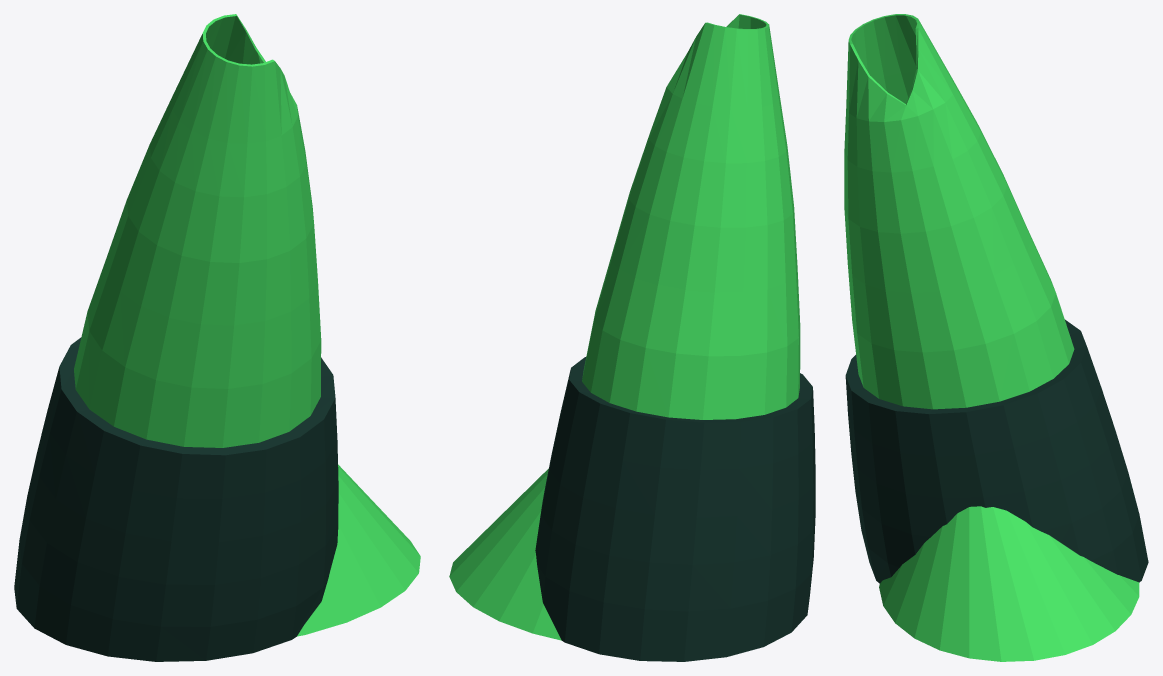
The model's file is Peridot pie derecho.obj.
The picture shows the model from 3 angles, left to right: view 1: azimuth 30°, elevation 25°; view 2: azimuth 150°, elevation 25°; view 3: azimuth 270°, elevation 25°; orthographic projection. The views are drawn at different scales.
Parts seen in each view (by area): view 1: Pierna_derecha_2, Pie_derecho; view 2: Pierna_derecha_2, Pie_derecho; view 3: Pierna_derecha_2, Pie_derecho.
Boxes of the visible parts, bbox=[...] form: Pierna_derecha_2: bbox=[14, 14, 338, 661]; Pie_derecho: bbox=[297, 464, 420, 636]; Pierna_derecha_2: bbox=[535, 14, 815, 661]; Pie_derecho: bbox=[449, 468, 561, 640]; Pierna_derecha_2: bbox=[844, 14, 1148, 583]; Pie_derecho: bbox=[879, 506, 1139, 661].
Bounding box in the file's own units: 3.61 × 5.72 × 2.92.
